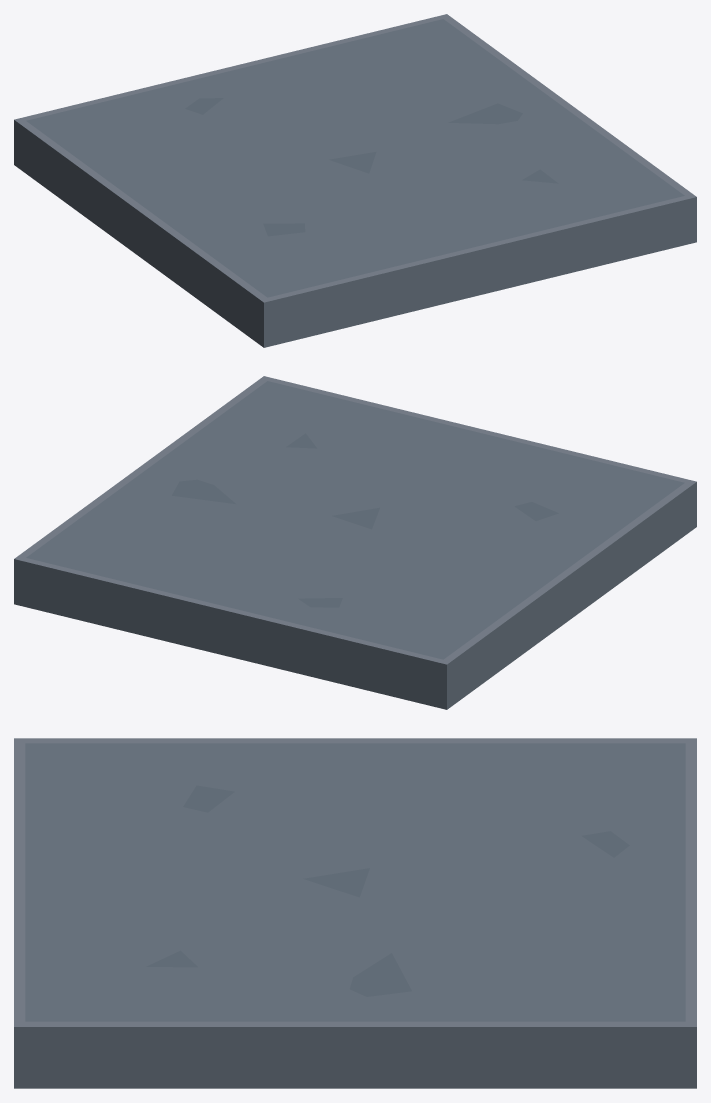
File: ConcrateSlabs_D_2_2.glb
3 renders of one model, top to bottom at view 1: azimuth 30°, elevation 25°; view 2: azimuth 150°, elevation 25°; view 3: azimuth 270°, elevation 25°, orthographic. The views are drawn at different scales.
Visible parts, largest first — view 1: ConcrateSlabs_D_2_2; view 2: ConcrateSlabs_D_2_2; view 3: ConcrateSlabs_D_2_2.
Boxes of the visible parts, <box> form: ConcrateSlabs_D_2_2: <box>14,14,696,347</box>; ConcrateSlabs_D_2_2: <box>14,376,696,709</box>; ConcrateSlabs_D_2_2: <box>14,738,696,1088</box>.
Size of the model in its own units: 4 by 0.4 by 4.
1 material, 1 textured.
